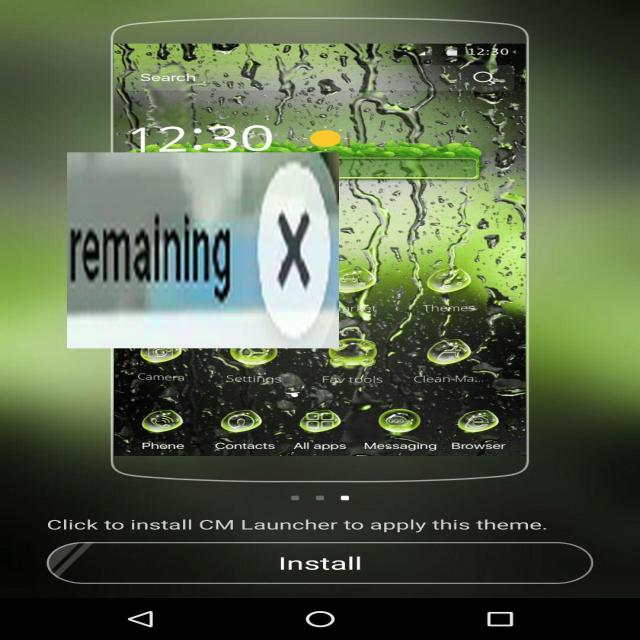misdirection: (67, 152, 339, 348)
